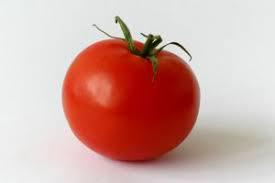tomato: (63, 37, 206, 165)
